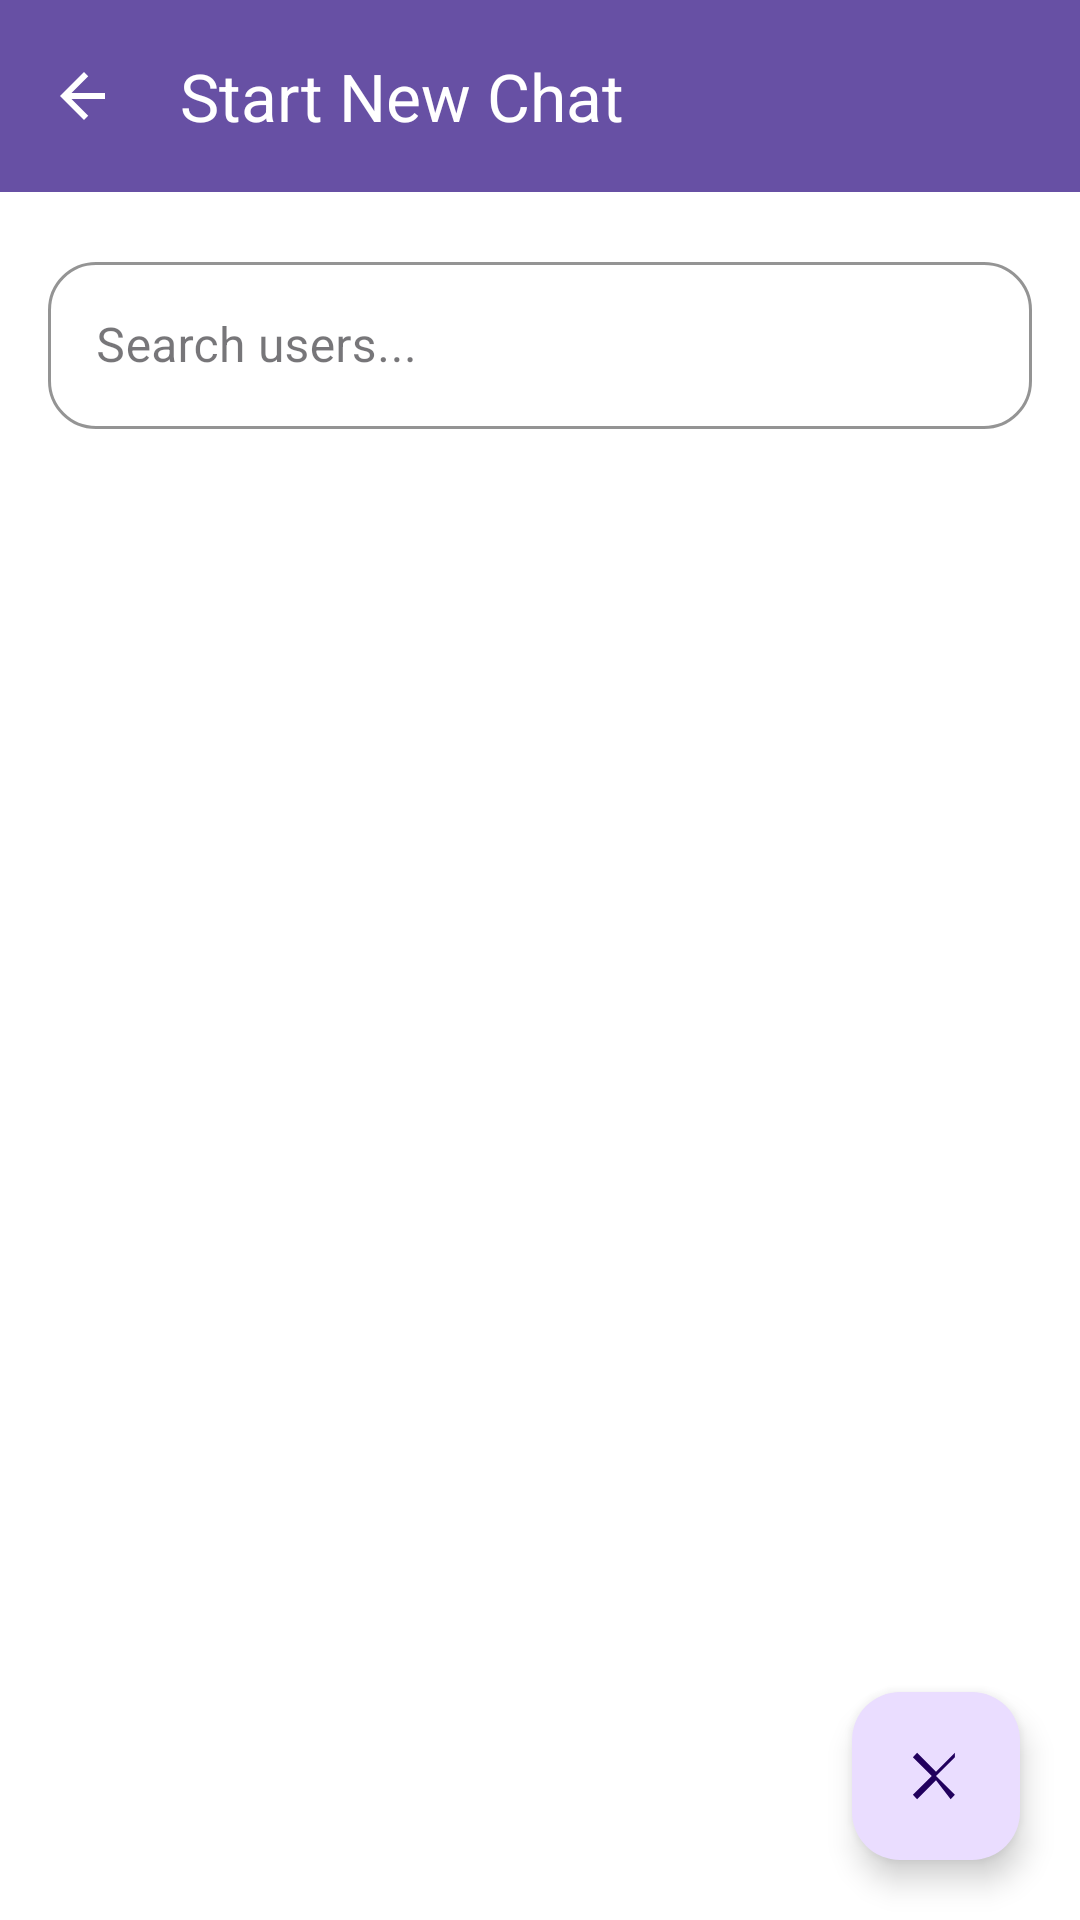

Named icons in this screenshot (1080px×1920px) and their centers, point (x, y):
Cancel: point (936, 1776)
